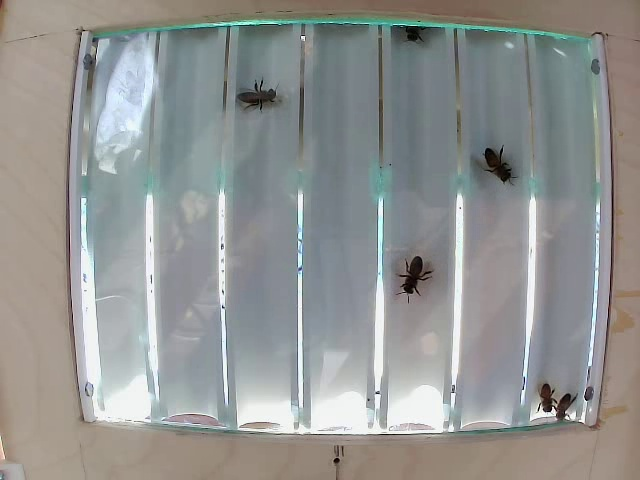bee: (481, 147, 522, 205), (242, 75, 284, 130), (406, 258, 438, 291), (527, 376, 551, 415), (554, 392, 575, 428)
